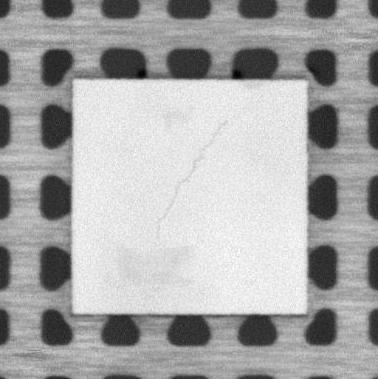DIE_CRACK: (153, 120, 228, 235)
